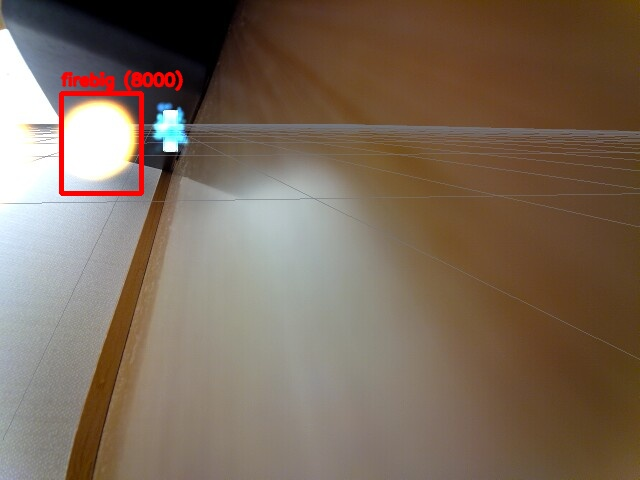firebig: (61, 93, 141, 193)
